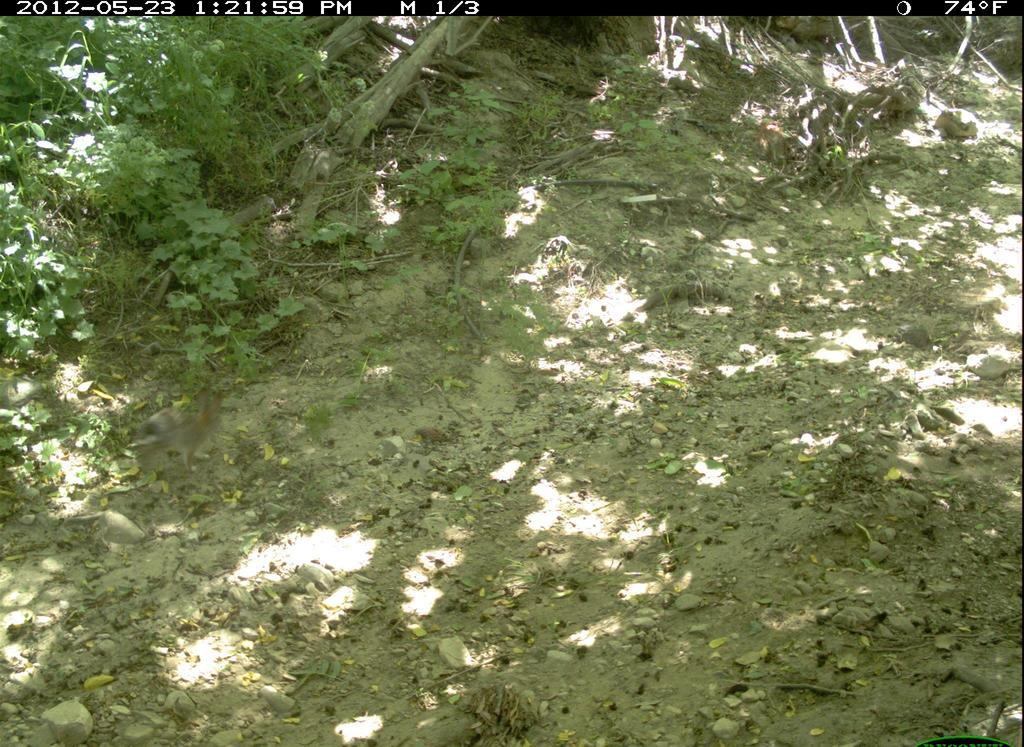rabbit: (122, 385, 228, 484)
